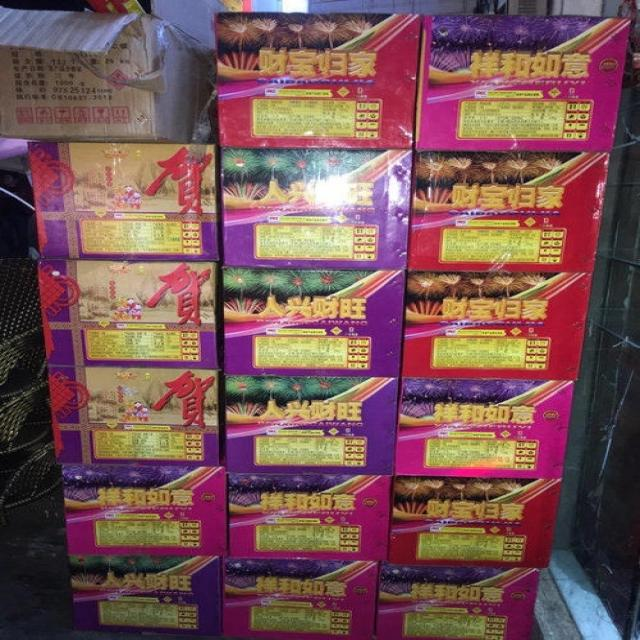box: (415, 14, 631, 152), (211, 12, 422, 148), (0, 12, 216, 143), (407, 151, 611, 272), (219, 148, 413, 270), (27, 141, 220, 260), (402, 271, 594, 381), (221, 267, 406, 377), (36, 260, 220, 367), (394, 378, 576, 477), (224, 374, 398, 474), (46, 366, 220, 465), (389, 475, 562, 568), (61, 465, 227, 556), (228, 474, 392, 558), (376, 561, 540, 639), (68, 554, 221, 636), (223, 557, 376, 639)
